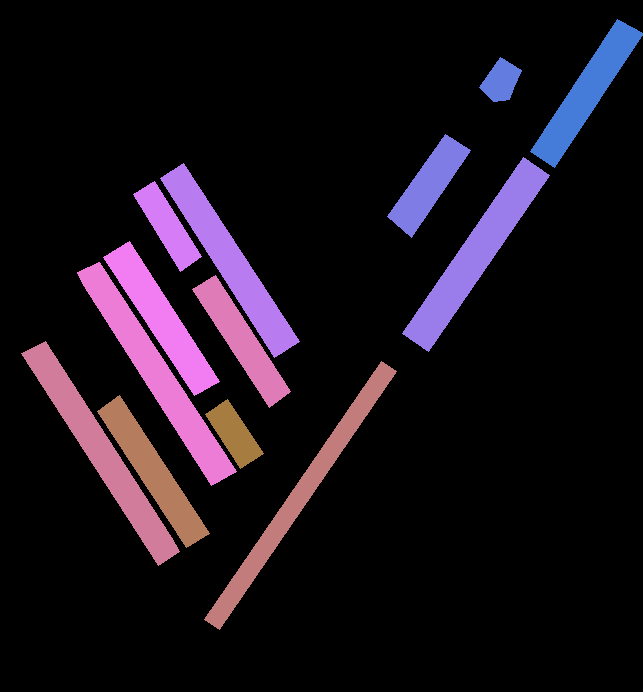parkingspot: (204, 361, 396, 629), (77, 262, 236, 485), (21, 341, 179, 565), (402, 157, 549, 351), (160, 163, 299, 357), (103, 241, 219, 395), (97, 395, 209, 547), (530, 19, 643, 167), (192, 275, 290, 407), (387, 134, 470, 237), (133, 181, 201, 271), (205, 399, 263, 468), (479, 57, 521, 101)
